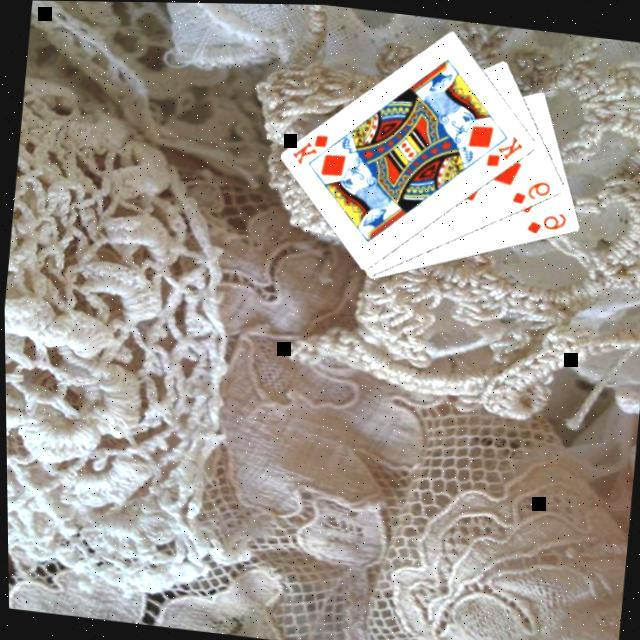6D: (524, 205, 570, 240)
9D: (508, 173, 556, 210)
KD: (482, 129, 530, 174), (288, 126, 333, 172)
